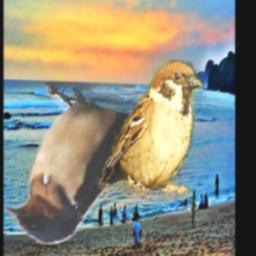Sparrow: (99, 59, 204, 199)
Swallow: (5, 81, 143, 244)
